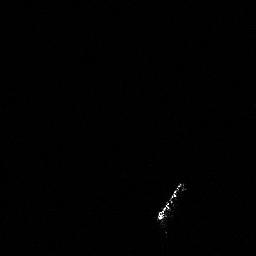ship: (153, 178, 188, 225)
